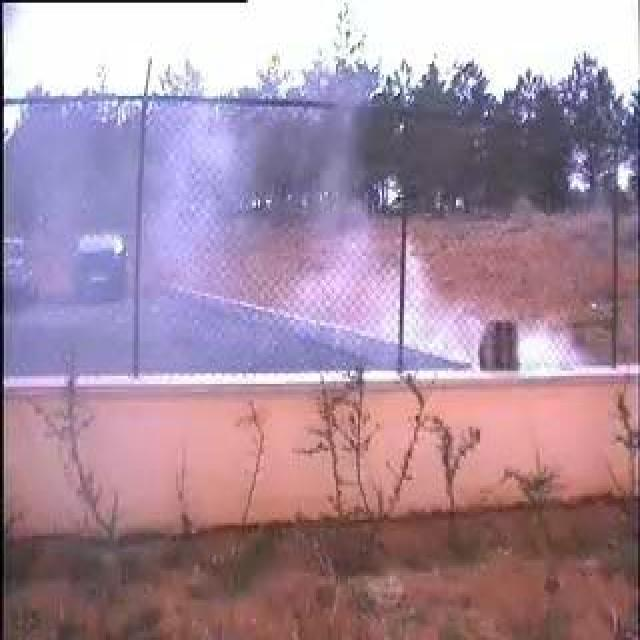Smoke: (150, 103, 578, 374)
